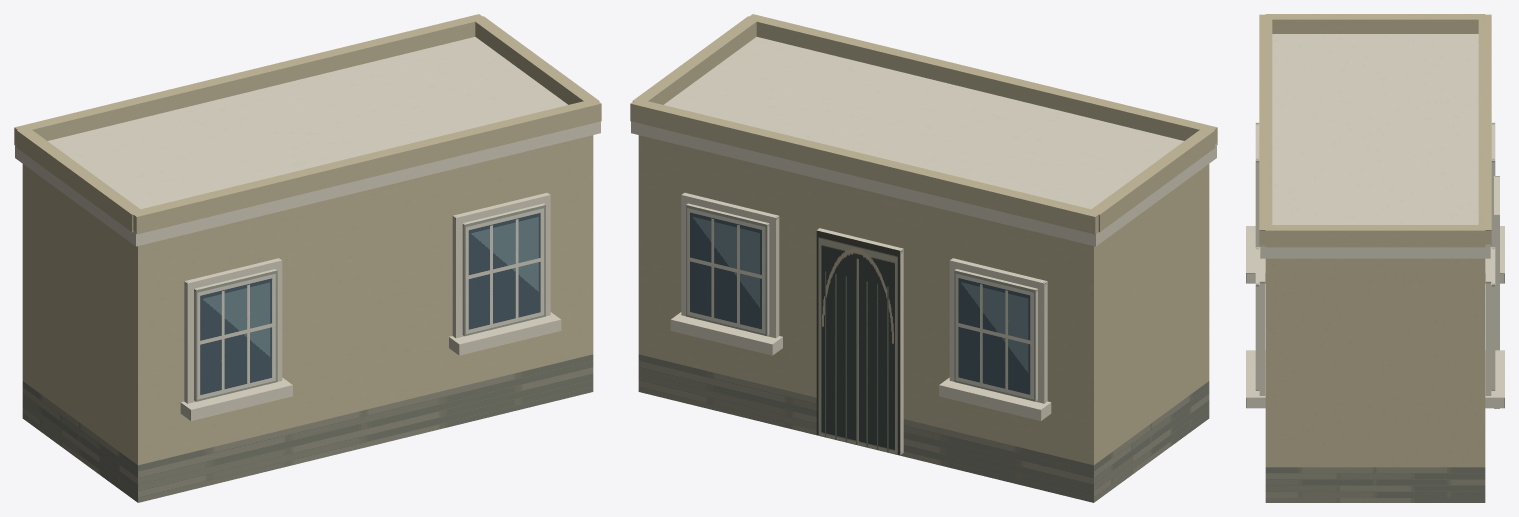
The model's file is SM_QD_School_ServiceWing.fbx.
3 views of the same model, side by side, from view 1: azimuth 30°, elevation 25°; view 2: azimuth 150°, elevation 25°; view 3: azimuth 270°, elevation 25° (orthographic). The views are drawn at different scales.
Parts seen in each view (by area): view 1: SM_QD_School_ServiceWing; view 2: SM_QD_School_ServiceWing; view 3: SM_QD_School_ServiceWing.
Boxes of the visible parts, left/top/right/bottom form: SM_QD_School_ServiceWing: left=14, top=14, right=601, bottom=502; SM_QD_School_ServiceWing: left=630, top=14, right=1217, bottom=502; SM_QD_School_ServiceWing: left=1246, top=14, right=1504, bottom=502.
Size of the model in its own units: 3.9 by 1.97 by 2.31.
1 material, 1 textured.
